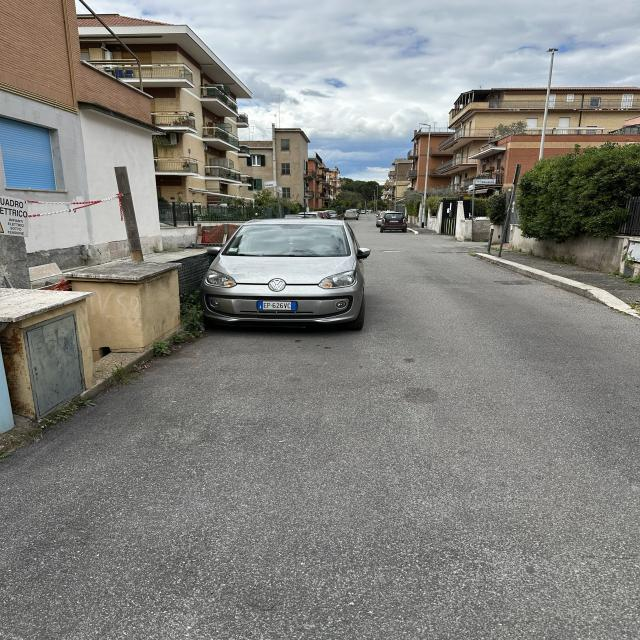number_plate: (255, 302, 301, 312)
